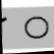no answer: (22, 14, 50, 41)
